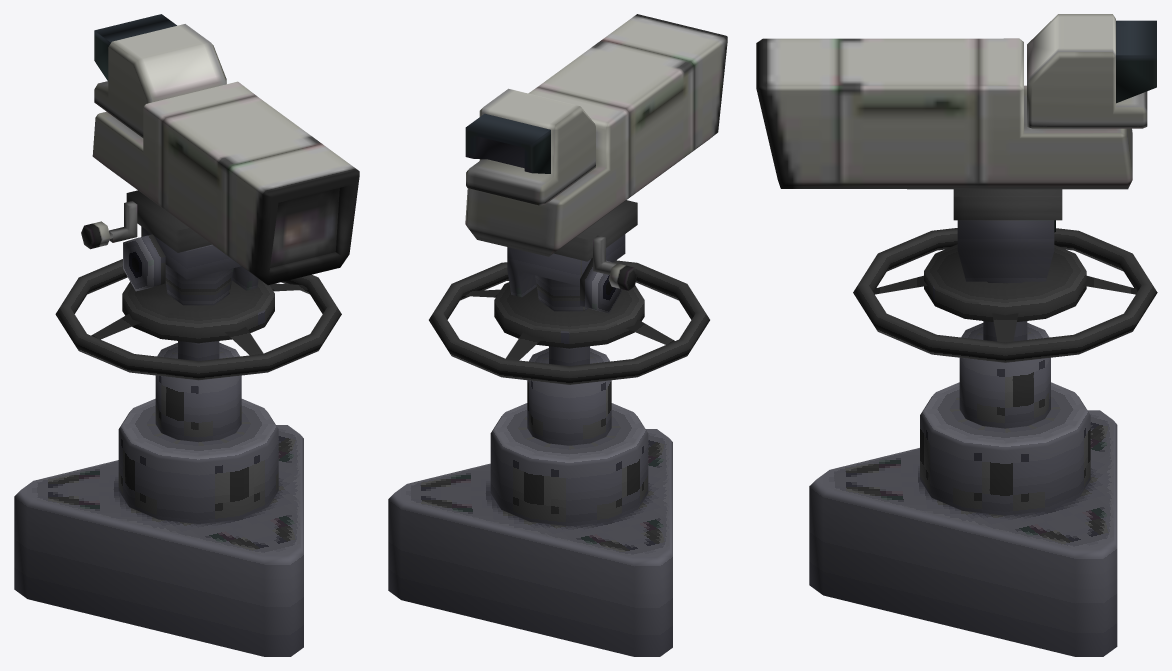
File: int_std_tvcamera.dae
The picture shows the model from 3 angles, left to right: view 1: azimuth 30°, elevation 25°; view 2: azimuth 150°, elevation 25°; view 3: azimuth 270°, elevation 25°; orthographic projection. The views are drawn at different scales.
Visible parts, largest first — view 1: int_std_tvcamera; view 2: int_std_tvcamera; view 3: int_std_tvcamera.
Part boxes in pixels (<box>): int_std_tvcamera: <box>14,14,359,656</box>; int_std_tvcamera: <box>388,14,727,656</box>; int_std_tvcamera: <box>756,14,1157,656</box>.
Bounding box in the file's own units: 26.05 × 46.79 × 30.8.
2 materials, 2 textured.
